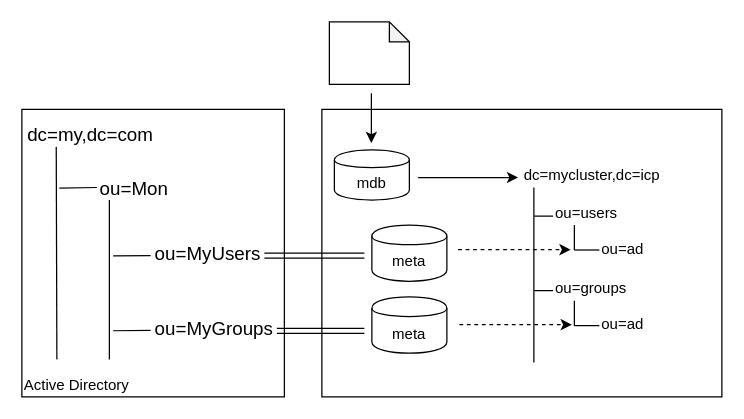
Some shapes in this 744 by 419 pixel diagram are drawn without their labels. Here are the shapes that lost their labels. From the top down, the box of each, then its label:
(328, 21, 409, 84): sso.ldif
(321, 108, 722, 397): OpenLdap
